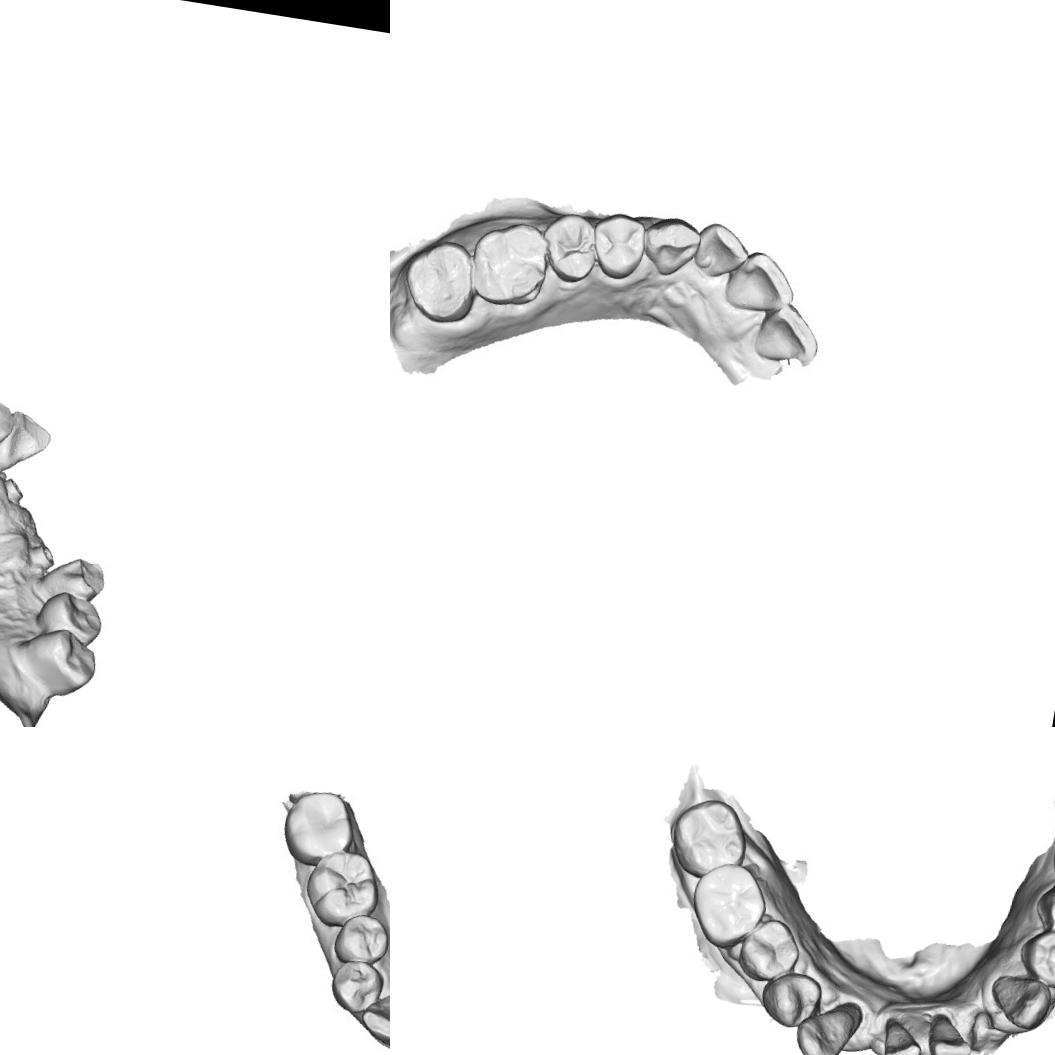canine: (637, 211, 706, 282), (985, 969, 1055, 1034), (32, 550, 108, 608), (793, 997, 861, 1055), (357, 987, 390, 1048), (0, 388, 19, 464)
implant: (24, 540, 60, 577), (0, 473, 29, 508)
incisor: (720, 245, 802, 319), (750, 296, 826, 368), (0, 405, 56, 483), (690, 218, 755, 285), (922, 1012, 975, 1055), (877, 1016, 923, 1055)
molar: (464, 215, 554, 312), (684, 859, 772, 955), (664, 791, 755, 882), (299, 843, 387, 936), (398, 233, 483, 329), (277, 784, 361, 872)
premolar: (12, 621, 102, 702), (538, 208, 605, 287), (584, 207, 648, 284), (756, 966, 822, 1032), (32, 587, 106, 645), (327, 954, 388, 1020), (742, 918, 804, 982), (328, 907, 390, 969), (1024, 929, 1055, 995), (1037, 879, 1055, 943)
